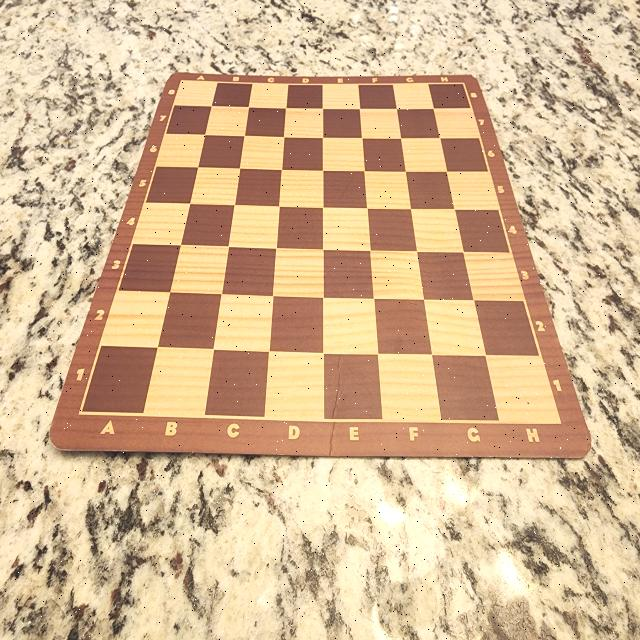Bottom-Left: (81, 349, 156, 413)
Bottom-Right: (487, 357, 561, 423)
Top-Left: (180, 78, 212, 107)
Top-Right: (429, 82, 469, 109)
